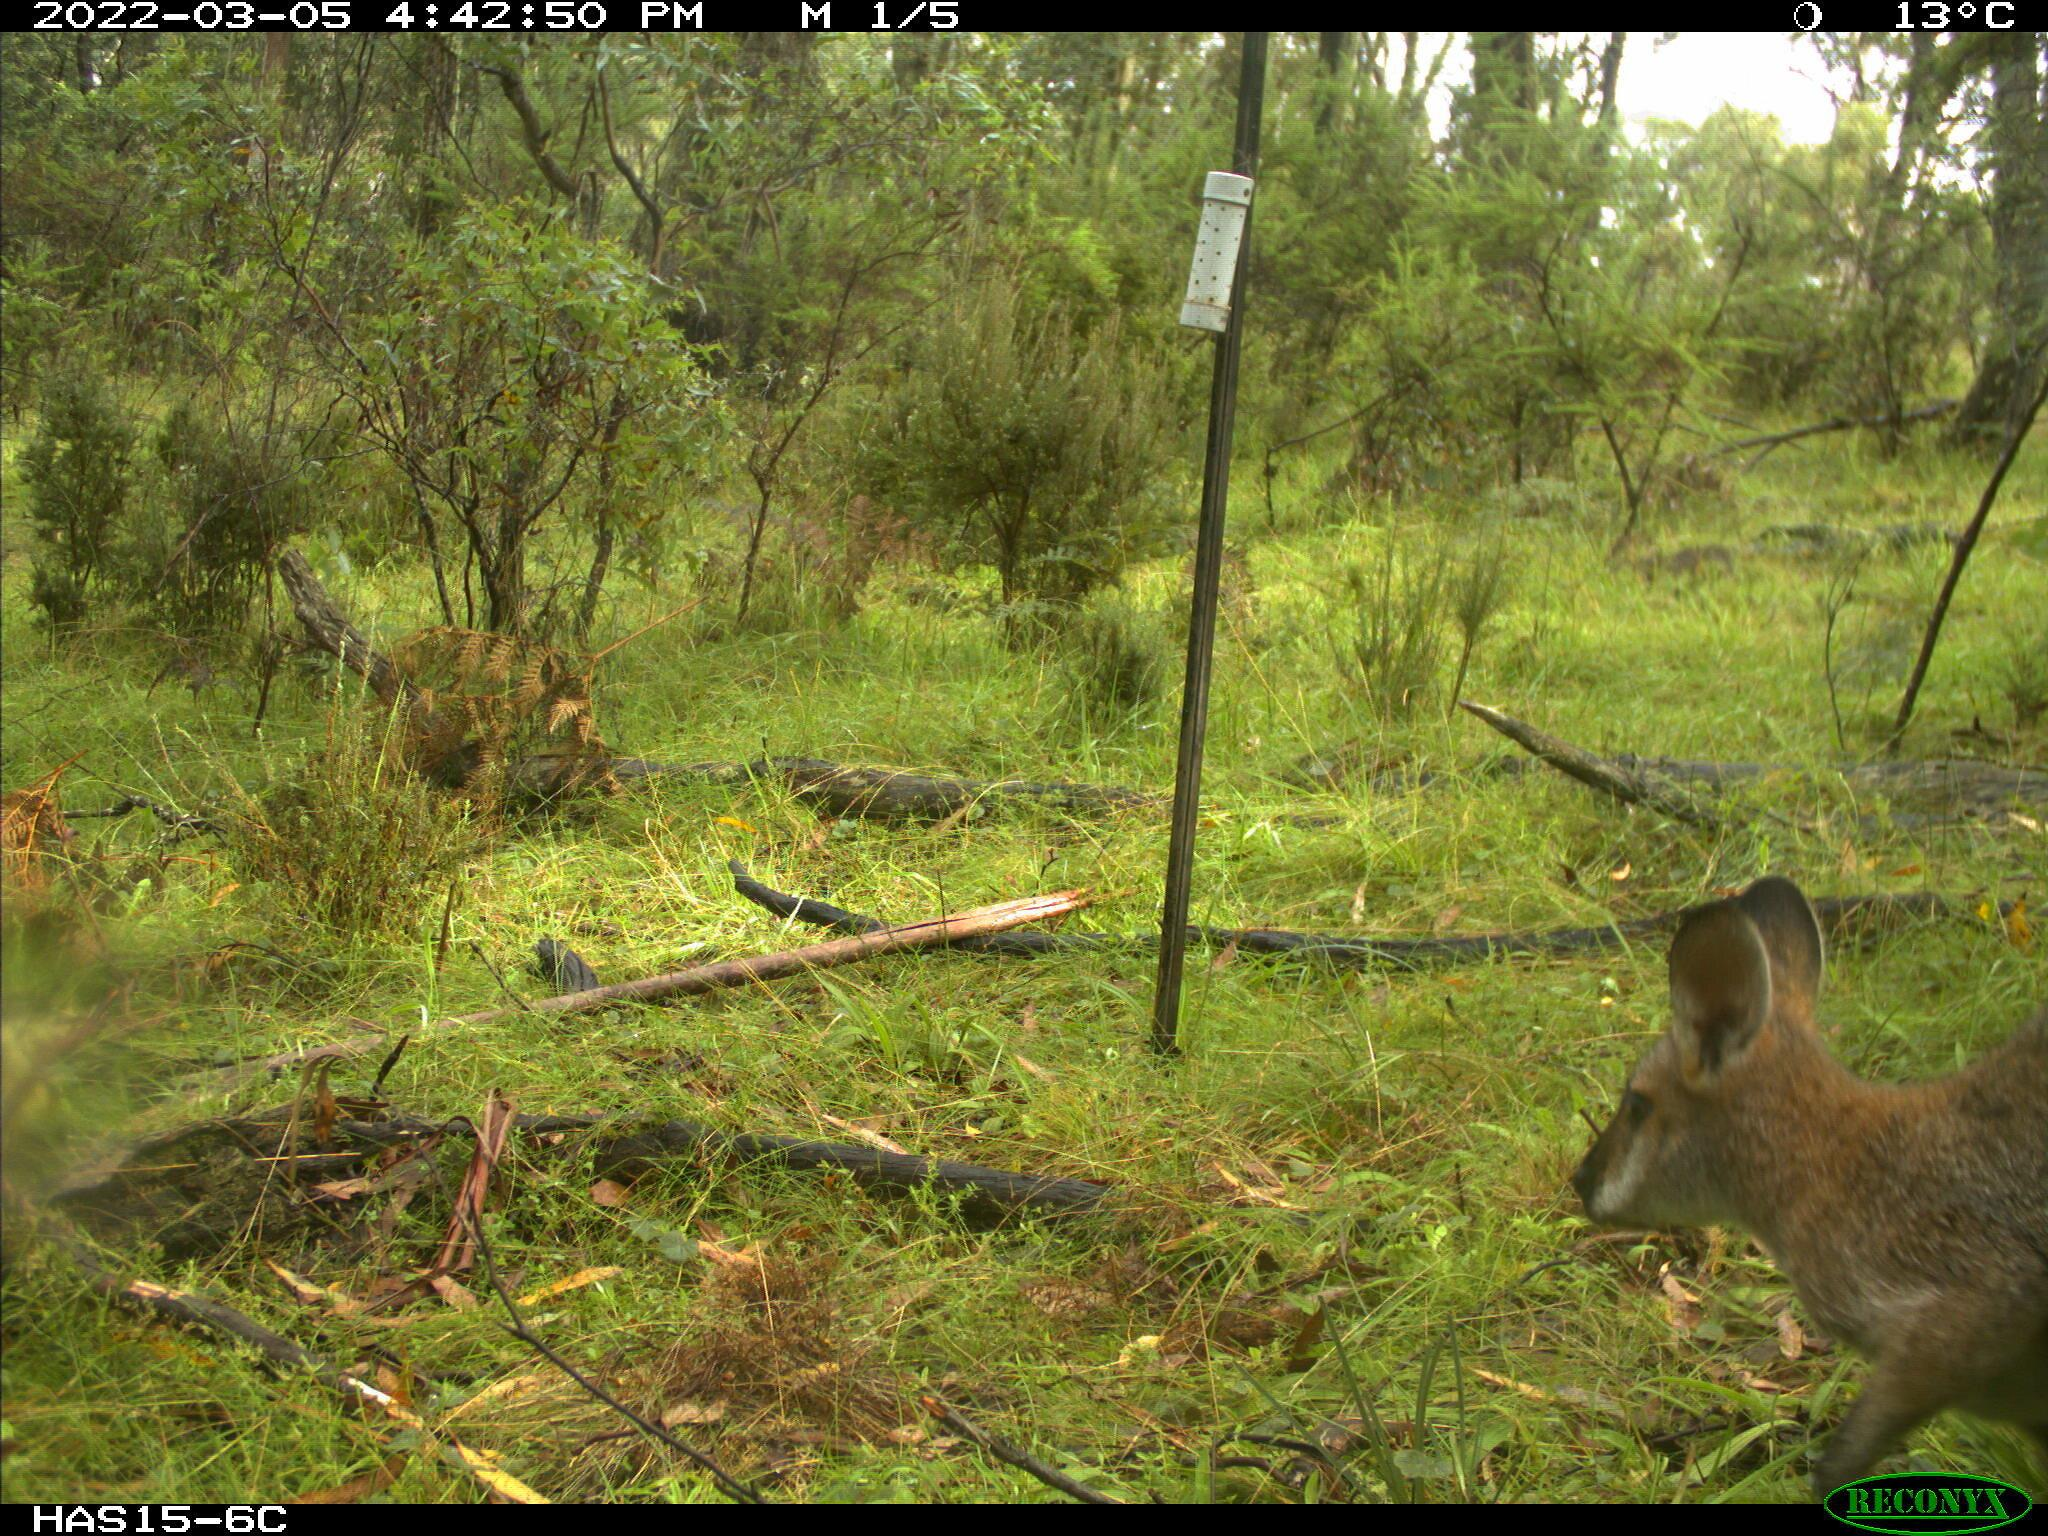Red-necked wallaby: (1558, 874, 2048, 1470)
